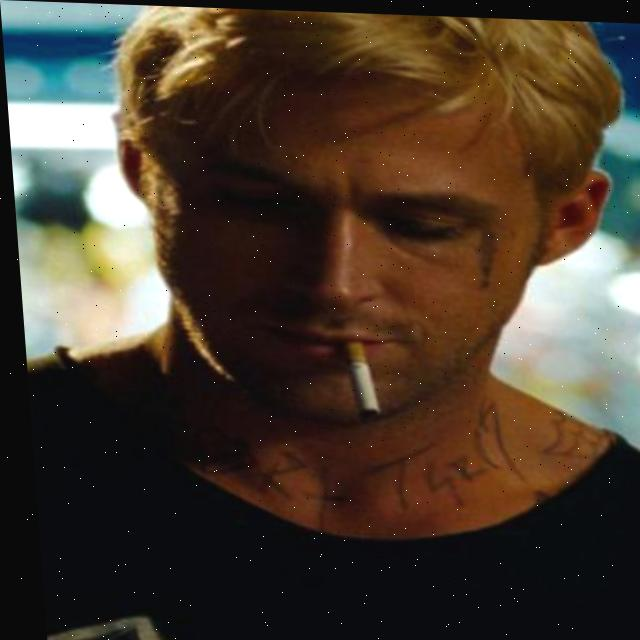cigarette: (340, 337, 375, 420)
